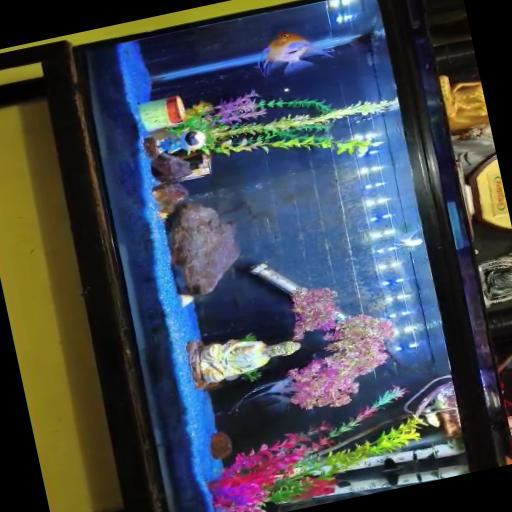Fish: (258, 31, 330, 76), (232, 379, 295, 411), (395, 231, 421, 248)
